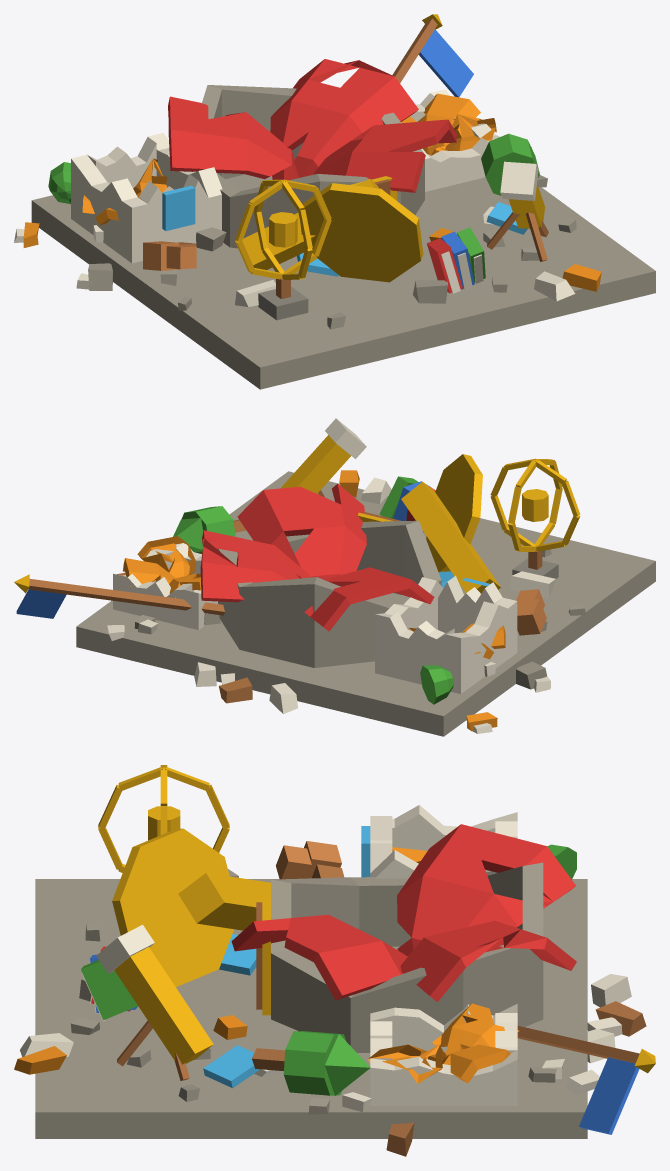
The model's file is observatory_t3_v3_dmg2.glb.
3 views of the same model, one above another, from view 1: azimuth 30°, elevation 25°; view 2: azimuth 150°, elevation 25°; view 3: azimuth 270°, elevation 25° (orthographic). The views are drawn at different scales.
Parts seen in each view (by area): view 1: observatory_t3_v3_dmg2; view 2: observatory_t3_v3_dmg2; view 3: observatory_t3_v3_dmg2.
Boxes of the visible parts, x1,y1,x2,y2 form: observatory_t3_v3_dmg2: (14, 14, 655, 389); observatory_t3_v3_dmg2: (14, 418, 655, 736); observatory_t3_v3_dmg2: (14, 765, 655, 1156).
Size of the model in its own units: 0.9217 by 0.2742 by 0.8717.
1 material, 1 textured.
